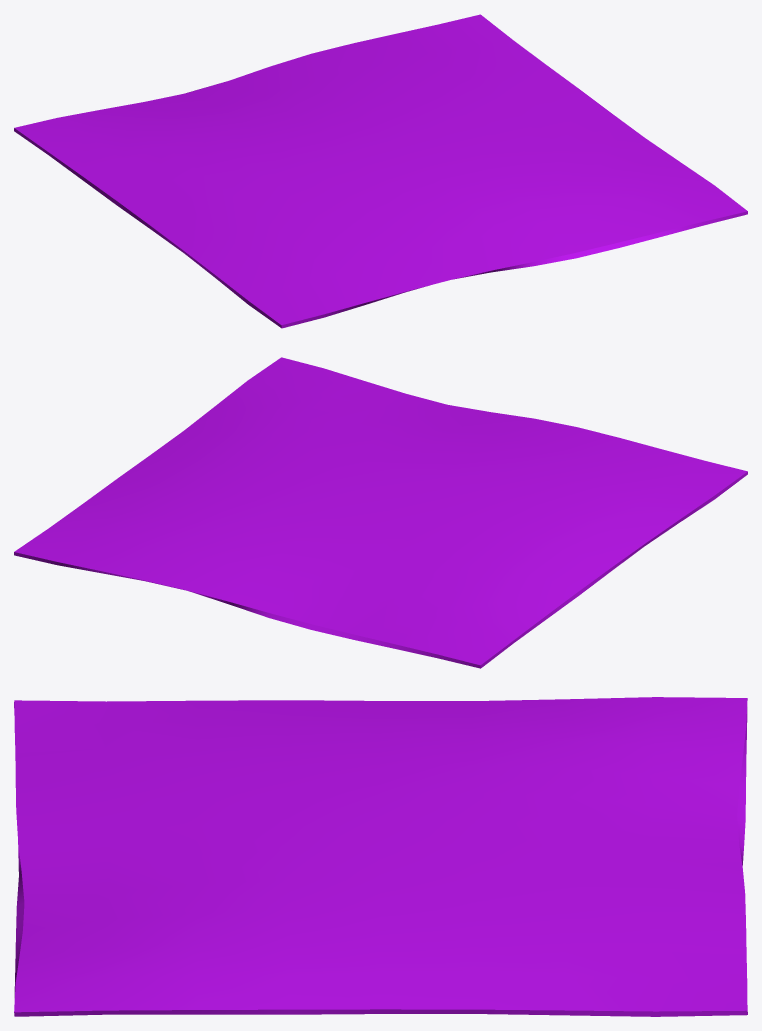
The model's file is PlanoUV.fbx.
The picture shows the model from 3 angles, top to bottom: view 1: azimuth 30°, elevation 25°; view 2: azimuth 150°, elevation 25°; view 3: azimuth 270°, elevation 25°; orthographic projection. The views are drawn at different scales.
Visible parts, largest first — view 1: pasted__pCube39; view 2: pasted__pCube39; view 3: pasted__pCube39.
Boxes of the visible parts, x1,y1,x2,y2 form: pasted__pCube39: [14, 14, 747, 328]; pasted__pCube39: [14, 357, 747, 668]; pasted__pCube39: [14, 697, 747, 1016].
Size of the model in its own units: 1.54 by 0.1038 by 1.53.
